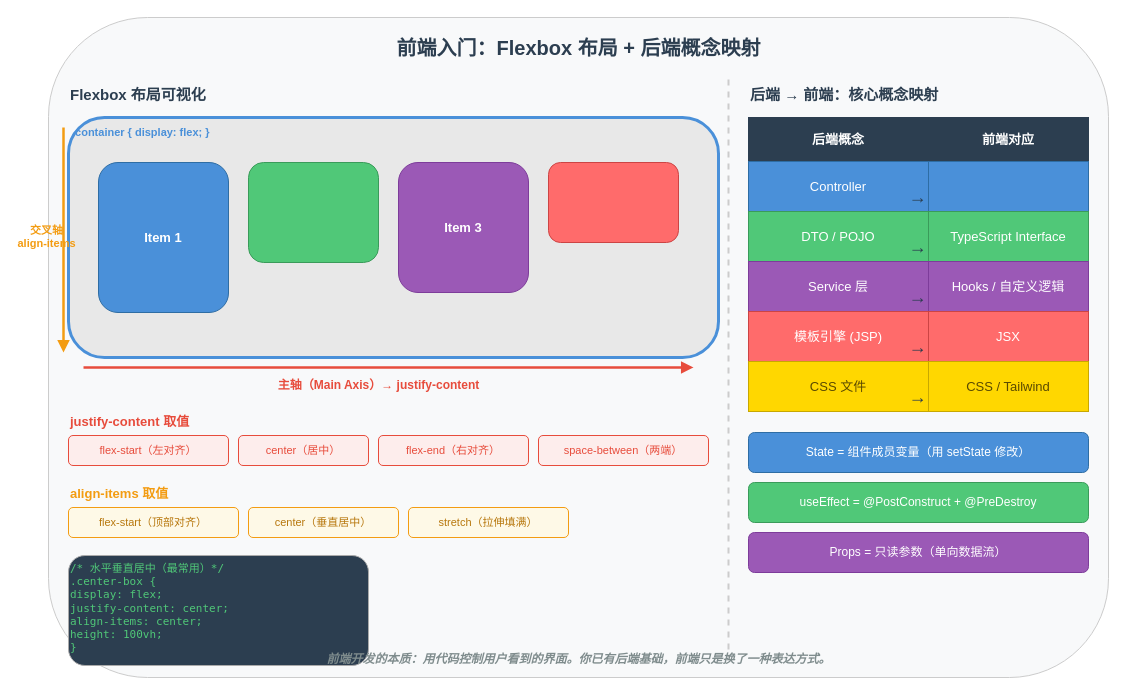
The diagram is 1126 pixels wide and 695 high, and some of its shapes have lost their labels. Each missing label, with the box of its shape:
Item 2: (248, 162, 378, 262)
Item 4: (548, 162, 678, 242)
React 组件: (928, 160, 1088, 212)
